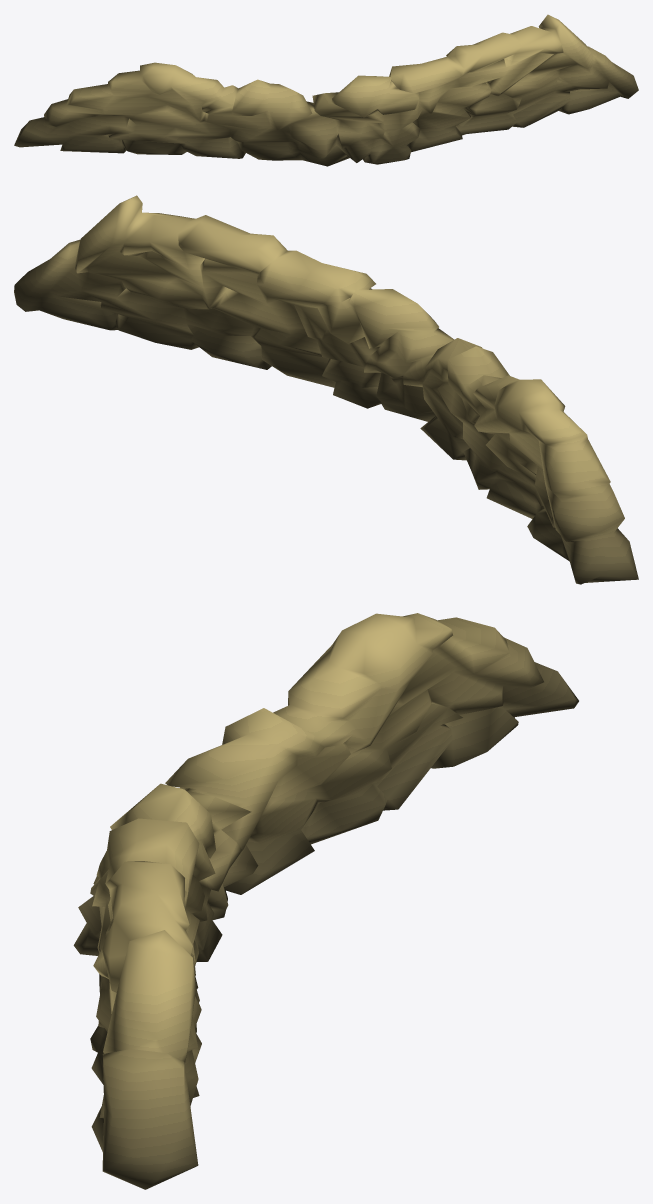
3 renders of one model, top to bottom at view 1: azimuth 30°, elevation 25°; view 2: azimuth 150°, elevation 25°; view 3: azimuth 270°, elevation 25°, orthographic. The views are drawn at different scales.
Parts seen in each view (by area): view 1: SB2.col; view 2: SB2.col; view 3: SB2.col.
Part boxes in pixels (left/top/right/bottom): SB2.col: left=14, top=14, right=638, bottom=166; SB2.col: left=14, top=195, right=638, bottom=584; SB2.col: left=73, top=613, right=578, bottom=1189.
Bounding box in the file's own units: 7.59 × 1.26 × 3.16.
Materials: 1 (1 with a texture image).
